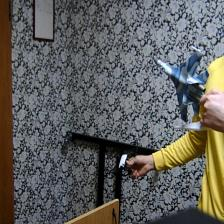drone: (102, 135, 143, 182)
